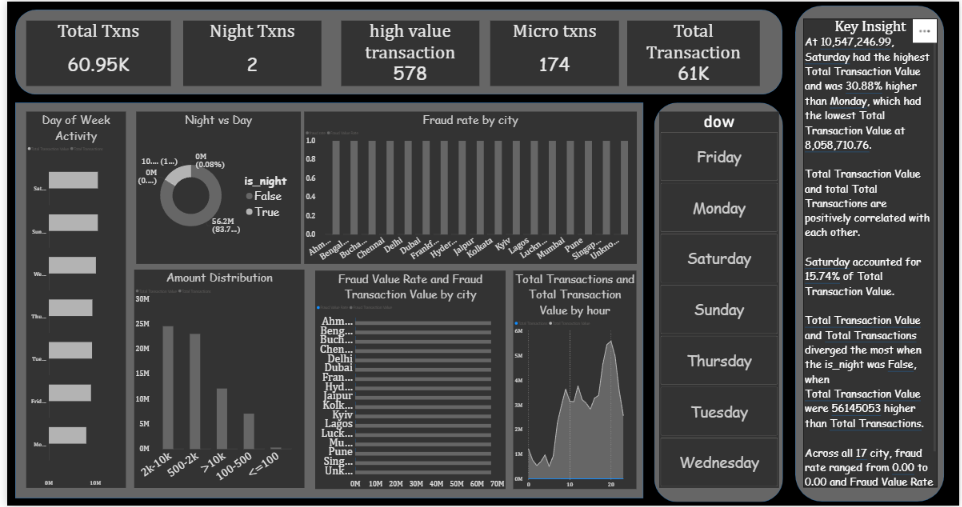

This screenshot's page, from the dashboard's own definition file:
{"tool":"powerbi","page":{"name":"Behavioral & Geographic Analysis","canvas":[2800,1800],"ordinal":3},"visuals":[{"type":"shape","box":[30,360,2243.3,1413.3],"z":0},{"type":"shape","box":[2310,360,460,1426.7],"z":1000},{"type":"shape","box":[30,30,2740,303.3],"z":2000},{"type":"clusteredColumnChart","title":"Fraud rate by city","fields":{"Category":["Q16_Customer_City_Spend.city"],"Y":["digital_payments_analytics payment_transactions.fraud rate","digital_payments_analytics payment_transactions.Fraud Value Rate"]},"box":[1060,392,1188,544],"z":3000},{"type":"card","title":"Total Txns","fields":{"Values":["Count(digital_payments_analytics payment_transactions.txn_id)"]},"box":[66.7,66.7,516.7,233.3],"z":4000},{"type":"card","title":"high value transaction","fields":{"Values":["digital_payments_analytics payment_transactions.High Value Transactions"]},"box":[1193.3,66.7,493.3,233.3],"z":9000},{"type":"card","title":"Micro txns","fields":{"Values":["digital_payments_analytics payment_transactions.Micro Transactions"]},"box":[1723.3,66.7,460,233.3],"z":10000},{"type":"card","title":"Total Transaction","fields":{"Values":["digital_payments_analytics payment_transactions.Total Transactions"]},"box":[2213.3,66.7,473.3,233.3],"z":11000},{"type":"card","title":"Night Txns","fields":{"Values":["Count(digital_payments_analytics payment_transactions.is_night)"]},"box":[630,66.7,493.3,233.3],"z":12000},{"type":"donutChart","title":"Night vs Day","fields":{"Y":["digital_payments_analytics payment_transactions.Total Transactions","digital_payments_analytics payment_transactions.Total Transaction Value"],"Category":["digital_payments_analytics payment_transactions.is_night"]},"box":[460,392,588,544],"z":13000},{"type":"clusteredColumnChart","title":"Amount Distribution","fields":{"Category":["digital_payments_analytics payment_transactions.amount_band"],"Y":["digital_payments_analytics payment_transactions.Total Transaction Value","digital_payments_analytics payment_transactions.Total Transactions"]},"box":[452,956,608,780],"z":14000},{"type":"areaChart","fields":{"Category":["digital_payments_analytics payment_transactions.hour"],"Y":["digital_payments_analytics payment_transactions.Total Transactions","digital_payments_analytics payment_transactions.Total Transaction Value"]},"box":[1808,960,440,780],"z":15000},{"type":"clusteredBarChart","title":"Day of Week Activity","fields":{"Category":["digital_payments_analytics payment_transactions.dow"],"Y":["digital_payments_analytics payment_transactions.Total Transaction Value","digital_payments_analytics payment_transactions.Total Transactions"]},"box":[68,392,356,1344],"z":16000},{"type":"clusteredBarChart","fields":{"Category":["Q16_Customer_City_Spend.city"],"Y":["digital_payments_analytics payment_transactions.Fraud Value Rate","digital_payments_analytics payment_transactions.Fraud Transaction Value"]},"box":[1100,960,680,780],"z":17000},{"type":"advancedSlicerVisual","fields":{"Values":["digital_payments_analytics payment_transactions.dow"]},"box":[2328,392,428,1344],"z":18000}]}

Visuals, with their boxes on the page's 2800x1800 design canvas (x1, y1, x2, y2). These are canvas units, not pixel positions in the 962x507 screenshot, which may show the page scaled, cropped or inside an application window:
shape: 30/360/2273/1773
shape: 2310/360/2770/1787
shape: 30/30/2770/333
"Fraud rate by city" clusteredColumnChart: 1060/392/2248/936
"Total Txns" card: 67/67/583/300
"high value transaction" card: 1193/67/1687/300
"Micro txns" card: 1723/67/2183/300
"Total Transaction" card: 2213/67/2687/300
"Night Txns" card: 630/67/1123/300
"Night vs Day" donutChart: 460/392/1048/936
"Amount Distribution" clusteredColumnChart: 452/956/1060/1736
areaChart - digital_payments_analytics payment_transactions.hour x digital_payments_analytics payment_transactions.Total Transactions: 1808/960/2248/1740
"Day of Week Activity" clusteredBarChart: 68/392/424/1736
clusteredBarChart - Q16_Customer_City_Spend.city x digital_payments_analytics payment_transactions.Fraud Value Rate: 1100/960/1780/1740
advancedSlicerVisual - digital_payments_analytics payment_transactions.dow: 2328/392/2756/1736
